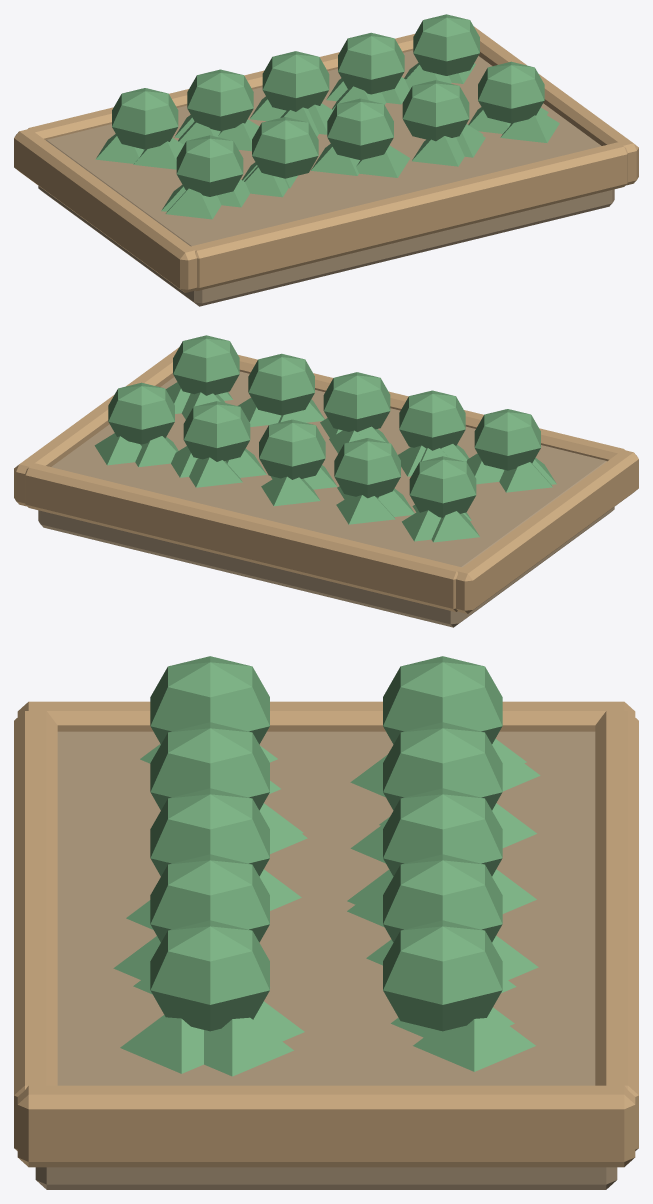
Rendered from allotment-bed.glb.
The picture shows the model from 3 angles, top to bottom: view 1: azimuth 30°, elevation 25°; view 2: azimuth 150°, elevation 25°; view 3: azimuth 270°, elevation 25°; orthographic projection. The views are drawn at different scales.
Visible parts, largest first — view 1: allotment-bed; view 2: allotment-bed; view 3: allotment-bed.
Part boxes in pixels (x1,y1,x2,y2): allotment-bed: [14, 14, 638, 306]; allotment-bed: [14, 335, 638, 627]; allotment-bed: [14, 656, 638, 1189].
Bounding box in the file's own units: 2.62 × 0.66 × 1.72.
